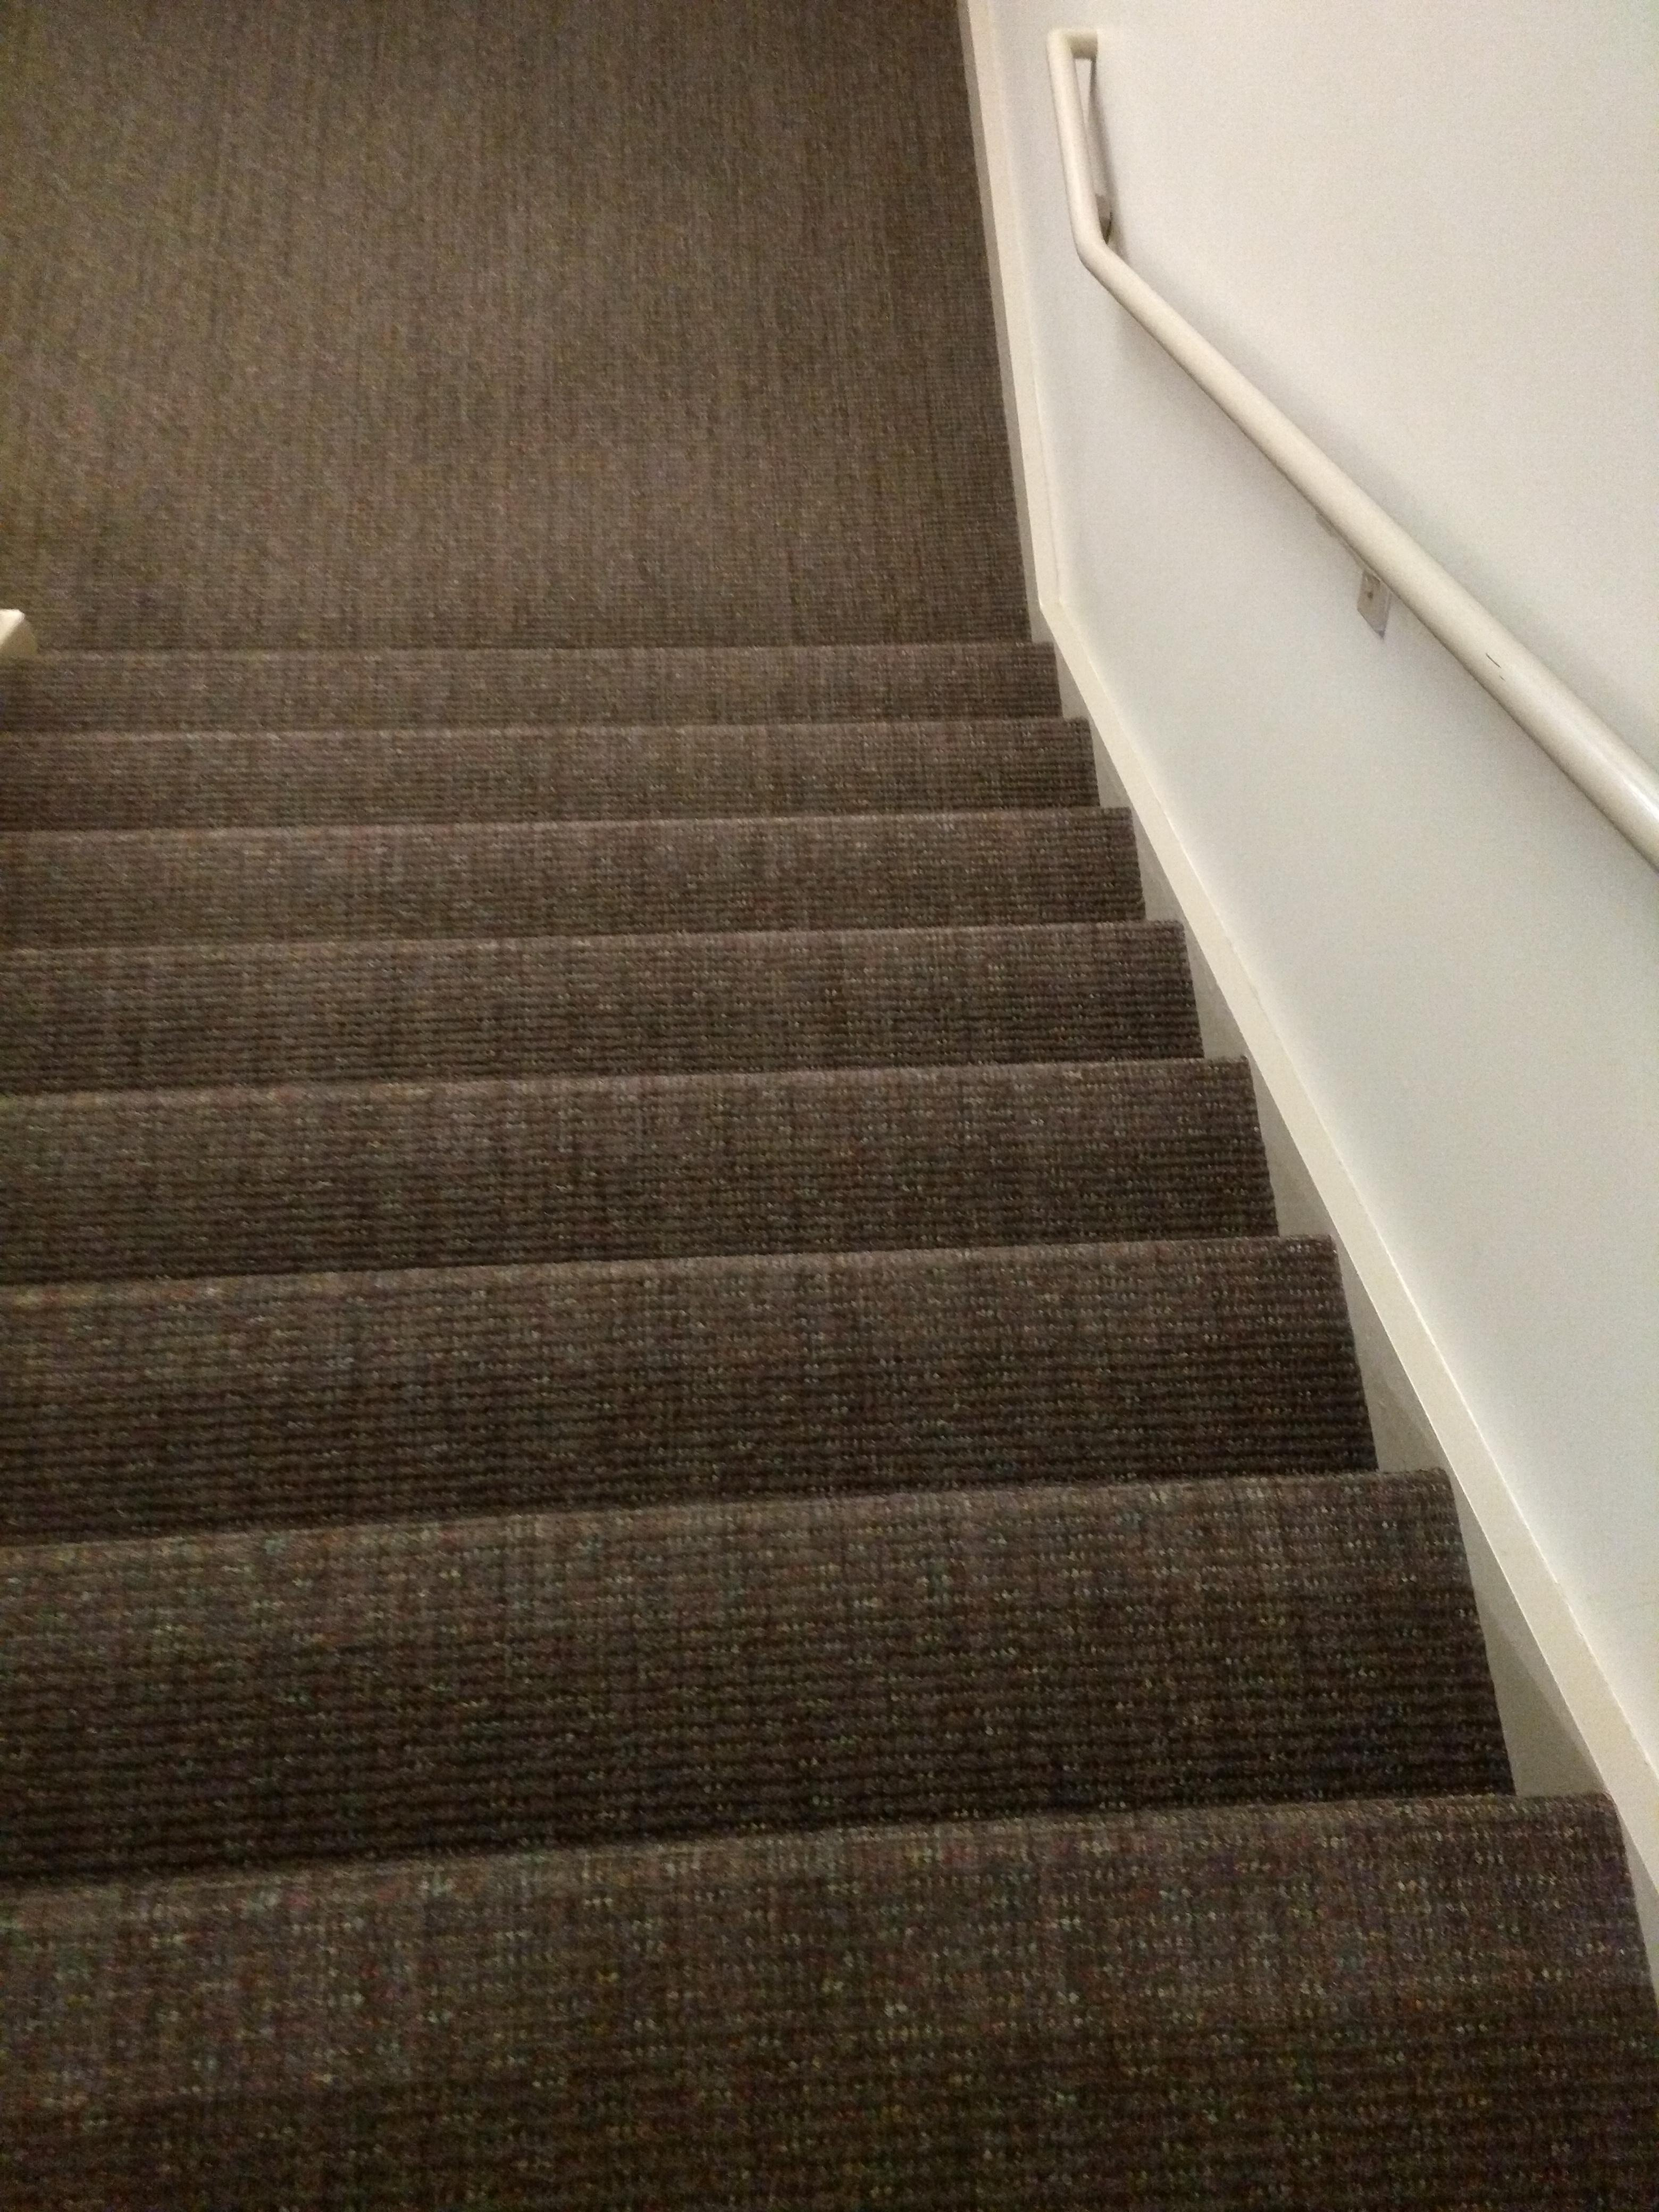stairs_down: (17, 634, 1659, 2202)
